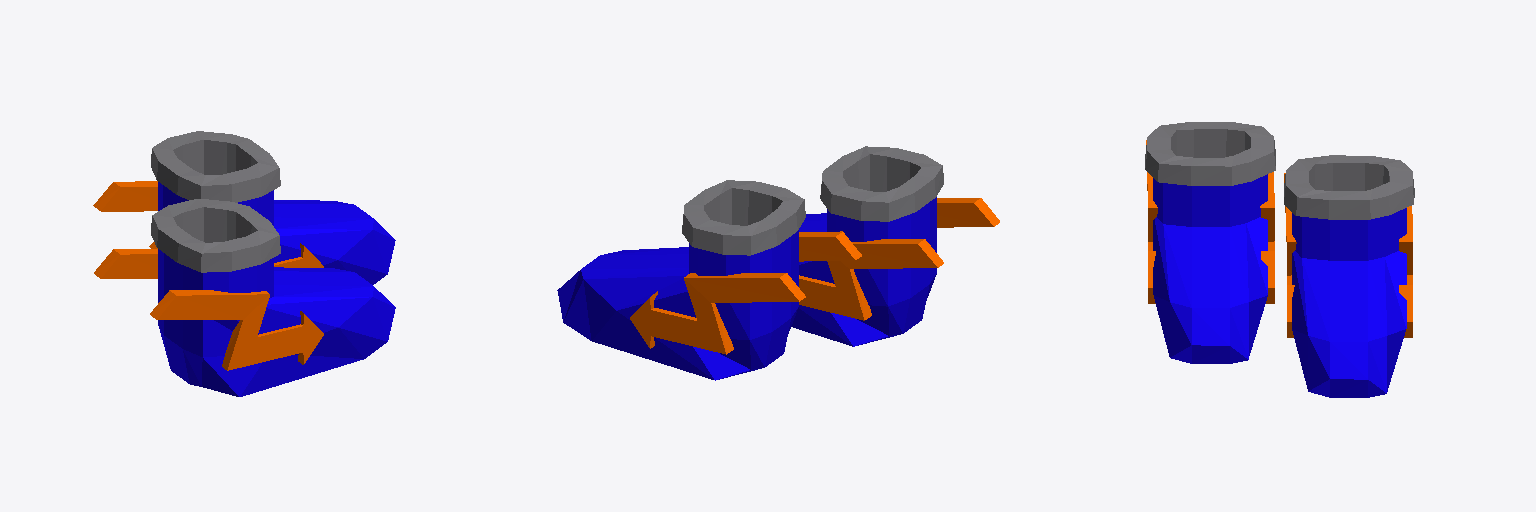
The model's file is boots.obj.
3 renders of one model, left to right at view 1: azimuth 30°, elevation 25°; view 2: azimuth 150°, elevation 25°; view 3: azimuth 270°, elevation 25°, orthographic.
Parts seen in each view (by area): view 1: Box004, Box007, Box003, Box008, Box005, Box006; view 2: Box007, Box004, Box008, Box005, Box003, Box006; view 3: Box007, Box004, Box005, Box008, Box003, Box006.
Part boxes in pixels (bbox=[...]): Box004: bbox=[151, 199, 395, 396]; Box007: bbox=[151, 131, 395, 284]; Box003: bbox=[150, 290, 323, 370]; Box008: bbox=[93, 181, 157, 211]; Box005: bbox=[94, 249, 157, 278]; Box006: bbox=[149, 242, 323, 267]; Box007: bbox=[557, 180, 805, 380]; Box004: bbox=[791, 146, 943, 346]; Box008: bbox=[630, 273, 805, 354]; Box005: bbox=[799, 239, 943, 320]; Box003: bbox=[937, 198, 999, 227]; Box006: bbox=[799, 231, 861, 261]; Box007: bbox=[1284, 155, 1414, 397]; Box004: bbox=[1145, 122, 1275, 363]; Box005: bbox=[1260, 172, 1274, 303]; Box008: bbox=[1399, 206, 1412, 337]; Box003: bbox=[1146, 140, 1157, 303]; Box006: bbox=[1284, 173, 1296, 337].
Size of the model in its own units: 53.06 by 23.15 by 37.2.